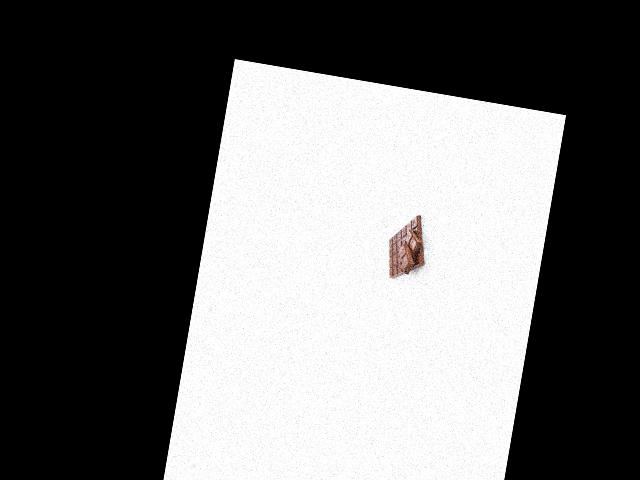chocolate: (379, 209, 435, 284)
